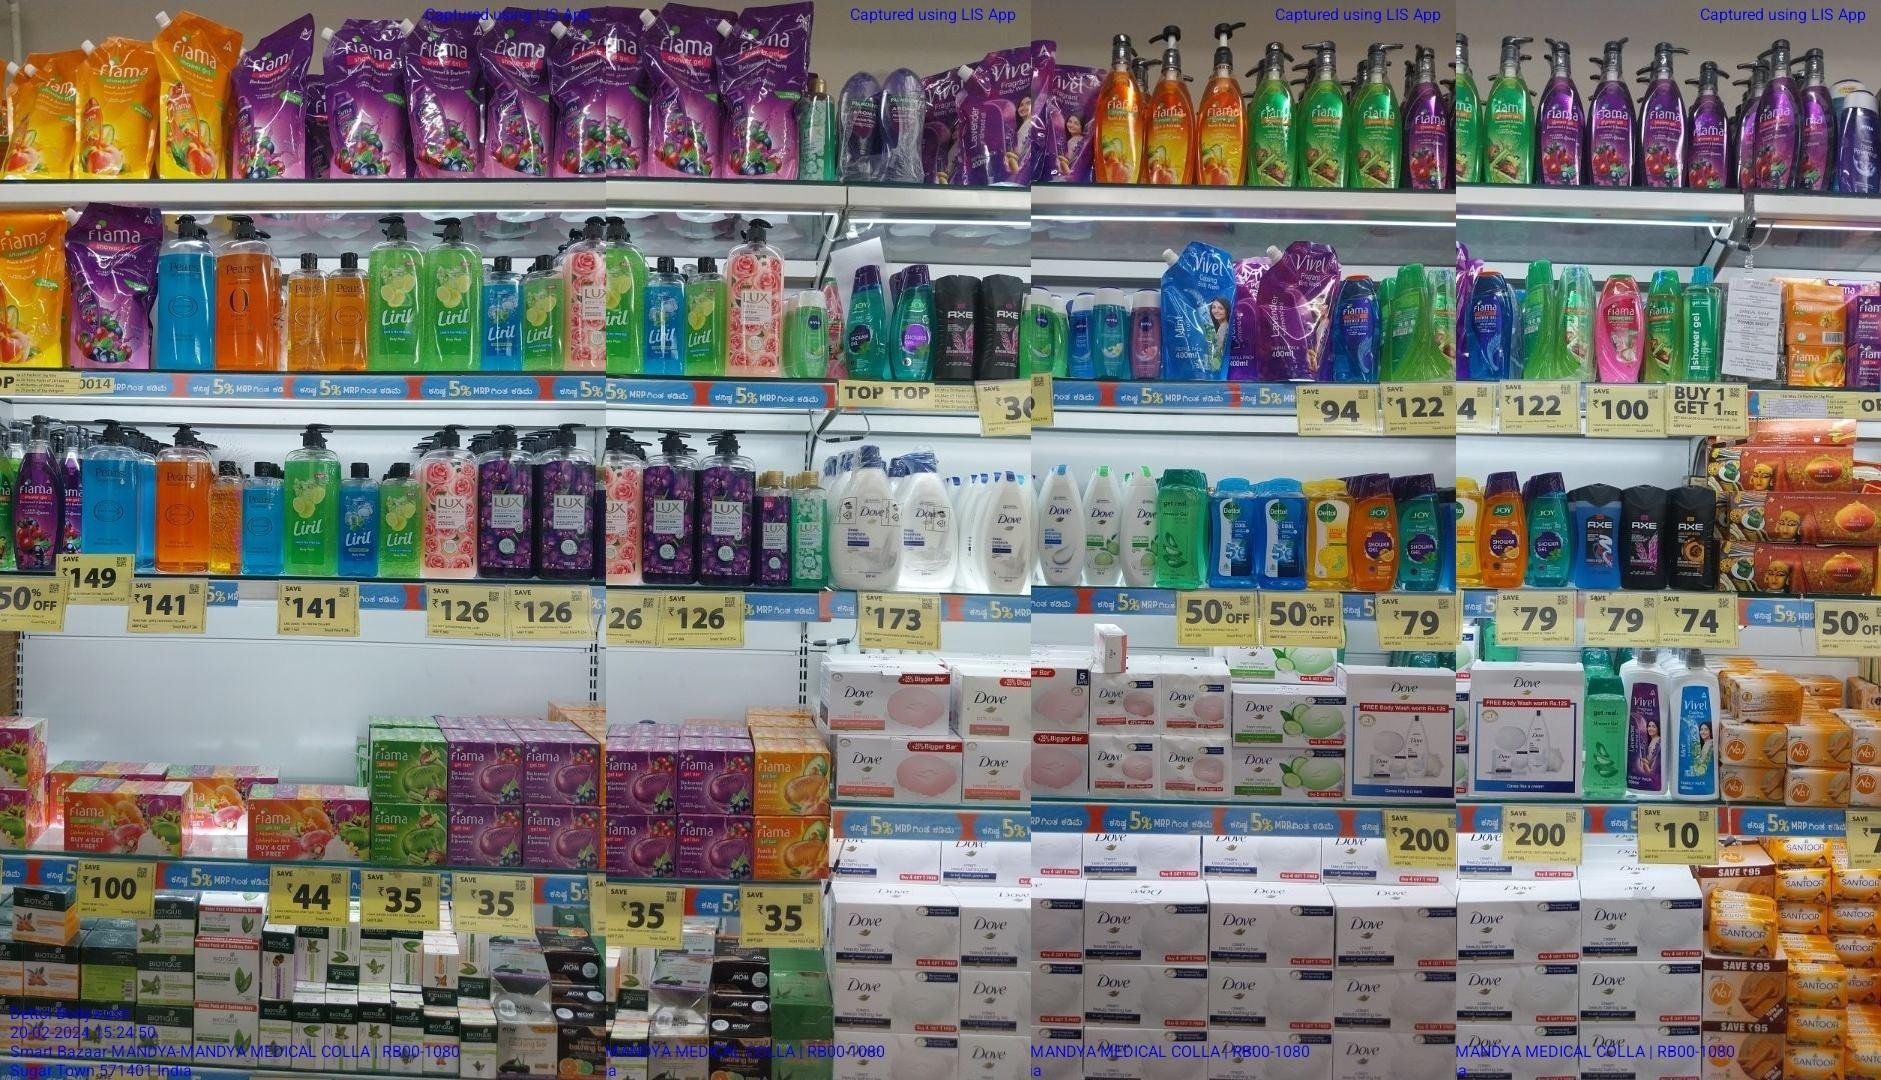Dettol_Bodywash_Cool: (1257, 479, 1307, 590), (1211, 478, 1254, 589)
Dettol_Bodywash_Refresh: (1309, 479, 1353, 589)
Dove_Deep_Moisture_Body_Wash_250ML: (983, 472, 1026, 593)
Dove_Gentle_Exfoliating_Body_Wash_250ML: (1041, 464, 1084, 585)
Dove_Refreshing_Body_Wash_250ML: (1086, 464, 1123, 587), (1125, 464, 1154, 587)
Fiama_Shower_Gel_Lemongrass_and_Jojoba_250ML: (1646, 271, 1685, 382)
Fiama_Shower_Gel_Patchouli_and_Macadamia_250ML: (1598, 273, 1643, 384)
Joy_Shower_Gel_Mandarin_and_Lemongrass_250ML: (1481, 472, 1526, 588), (1356, 472, 1399, 592)
Joy_Shower_Gel_Mint_and_Eucalyptus_250ML: (845, 261, 889, 382), (891, 260, 934, 379), (1403, 474, 1444, 592), (1530, 474, 1570, 588)
Liril_Cooling_Mint_Body_Wash_250ML: (481, 253, 521, 372), (643, 257, 683, 375), (340, 460, 380, 577)
Liril_Lime_and_Tea_Tree_Oil_Body_Wash_250ML: (522, 253, 566, 371), (685, 257, 726, 375), (381, 462, 422, 576)
Lux_Black_Orchid_Scent_and_Juniper_Oil_Body_Wash_245ML: (754, 464, 791, 587)
Lux_Body_Wash_Skin_Detox_Freesia_Scent_and_Alove_Vera_245ML: (793, 470, 828, 588), (800, 76, 832, 182)
Nivea_Shower_Gel_Fresh_Powerfruit_250ML: (1838, 92, 1880, 195)
Palmolive_Aroma_Relax_250ML: (884, 66, 924, 185), (840, 70, 881, 182)
Pears_Pure_Glycerin_and_Mint_Extracts_Body_Wash_250ML: (242, 460, 283, 574)
